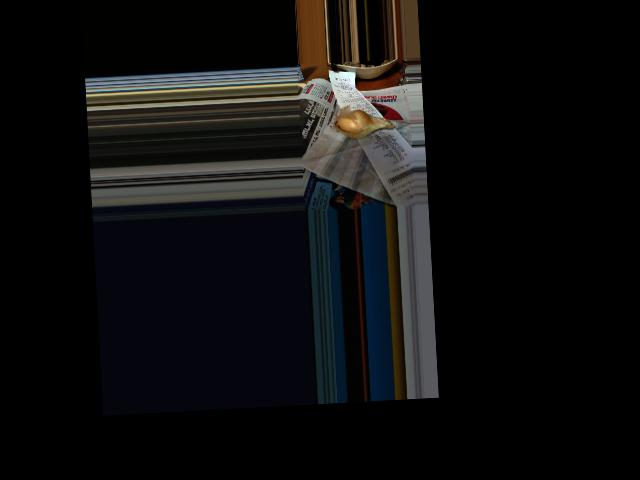onion: (335, 106, 391, 145)
